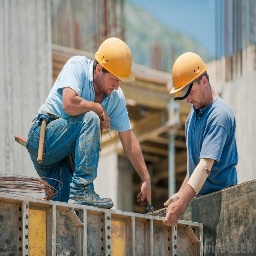helmet: (95, 37, 137, 85), (167, 54, 206, 97)
no-vest: (49, 58, 126, 134), (184, 108, 239, 197)
person: (25, 35, 156, 207), (161, 50, 240, 224)
